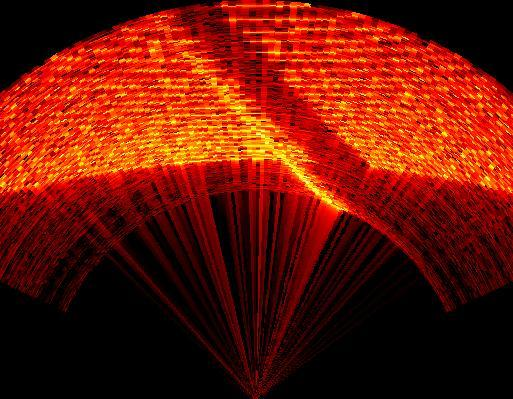pipe: (172, 3, 373, 201)
